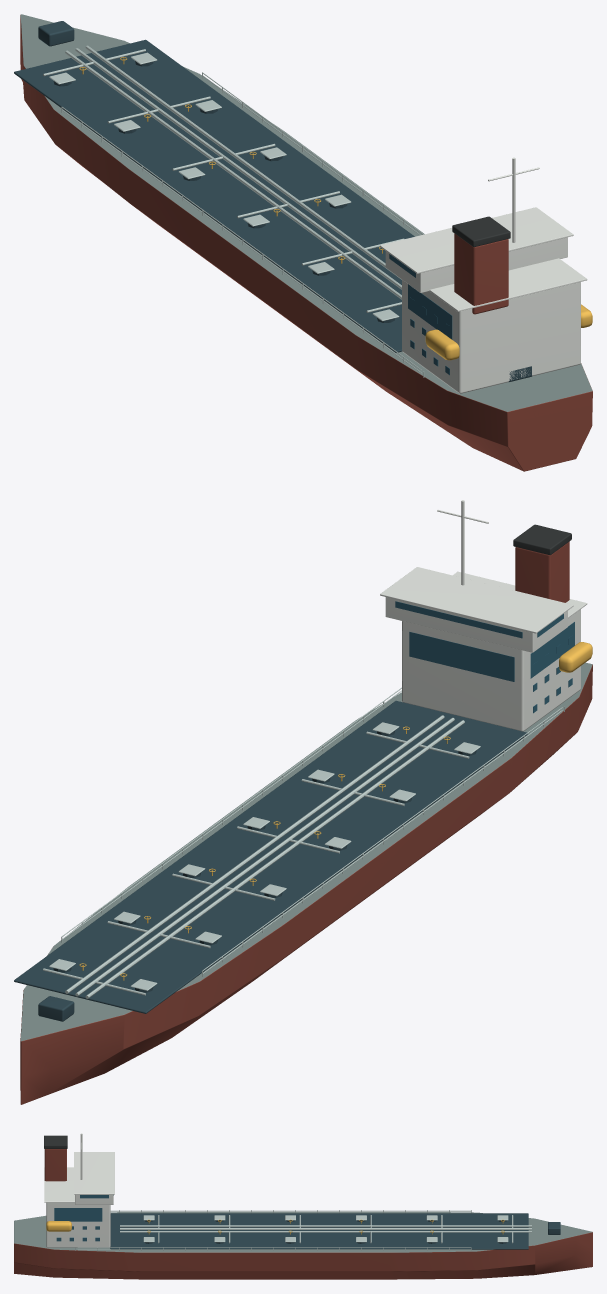
File: product-tanker.glb
3 renders of one model, top to bottom at view 1: azimuth 30°, elevation 25°; view 2: azimuth 150°, elevation 25°; view 3: azimuth 270°, elevation 25°, orthographic. The views are drawn at different scales.
Parts seen in each view (by area): view 1: product-tanker; view 2: product-tanker; view 3: product-tanker.
Part boxes in pixels (x1=…): product-tanker: x1=14, y1=14, x2=592, y2=471; product-tanker: x1=14, y1=500, x2=592, y2=1104; product-tanker: x1=14, y1=1133, x2=592, y2=1279.
Size of the model in its own units: 30.74 by 48 by 180.
